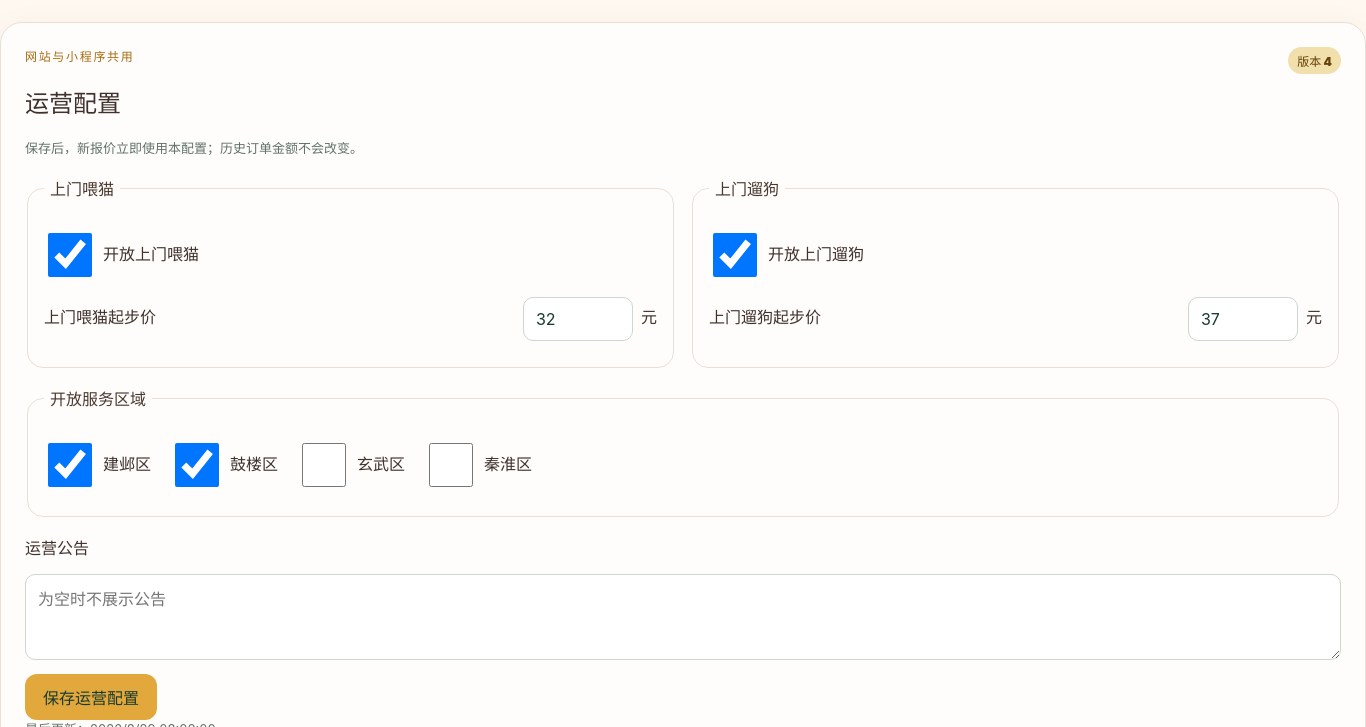
Test case: OperationsSettingsPanel › keeps at least one district and valid prices before saving
expect the heading "运营配置" is shown: met, box [25,84,134,119]
Click the checkbox labelled "建邺区".
click(70, 465)  # box [48,443,92,487]
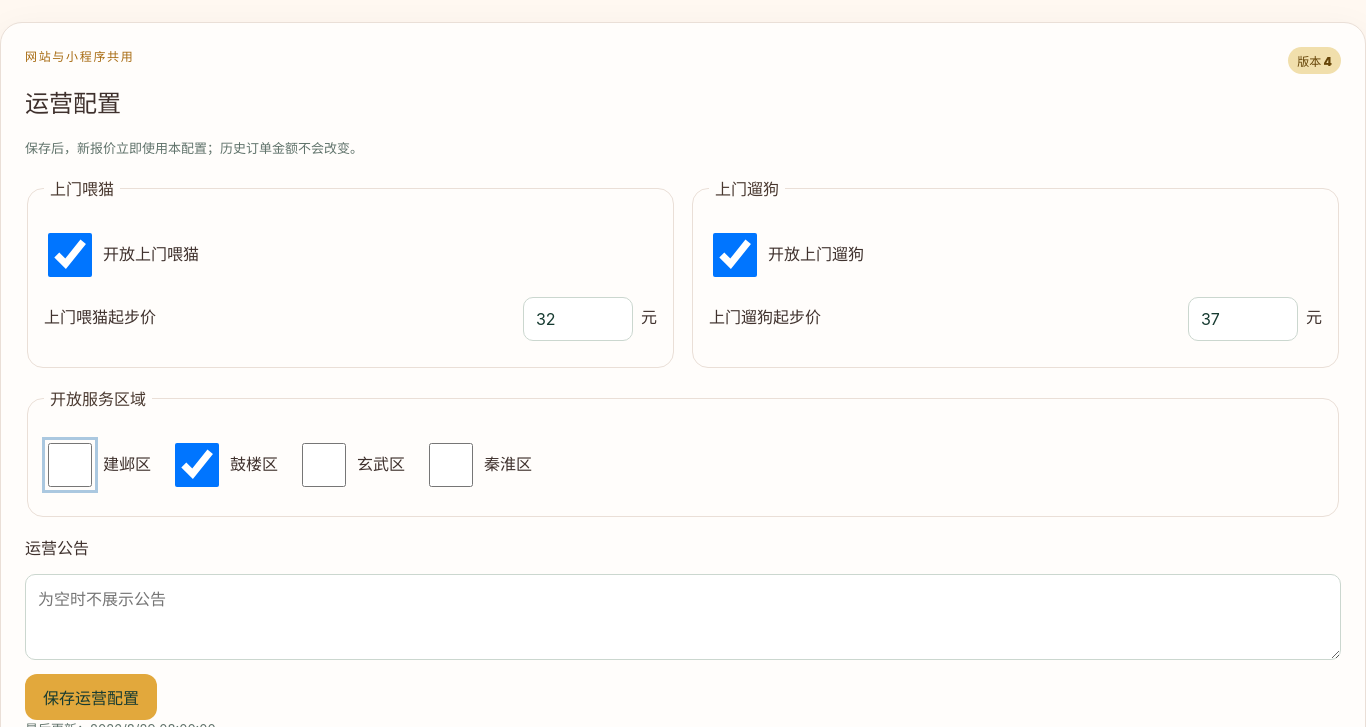
Click the checkbox labelled "鼓楼区".
click(197, 465)  # box [175,443,219,487]
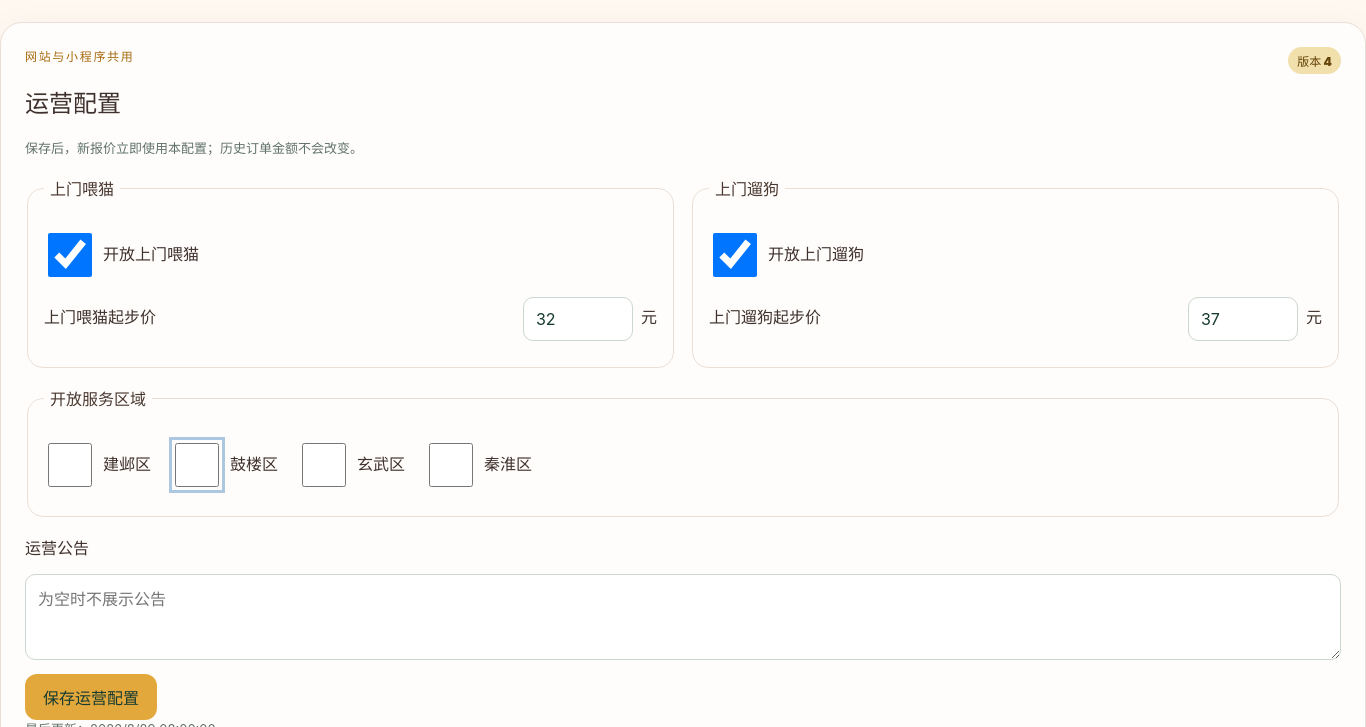
Click the button "保存运营配置".
click(91, 697)  # box [25,674,157,720]
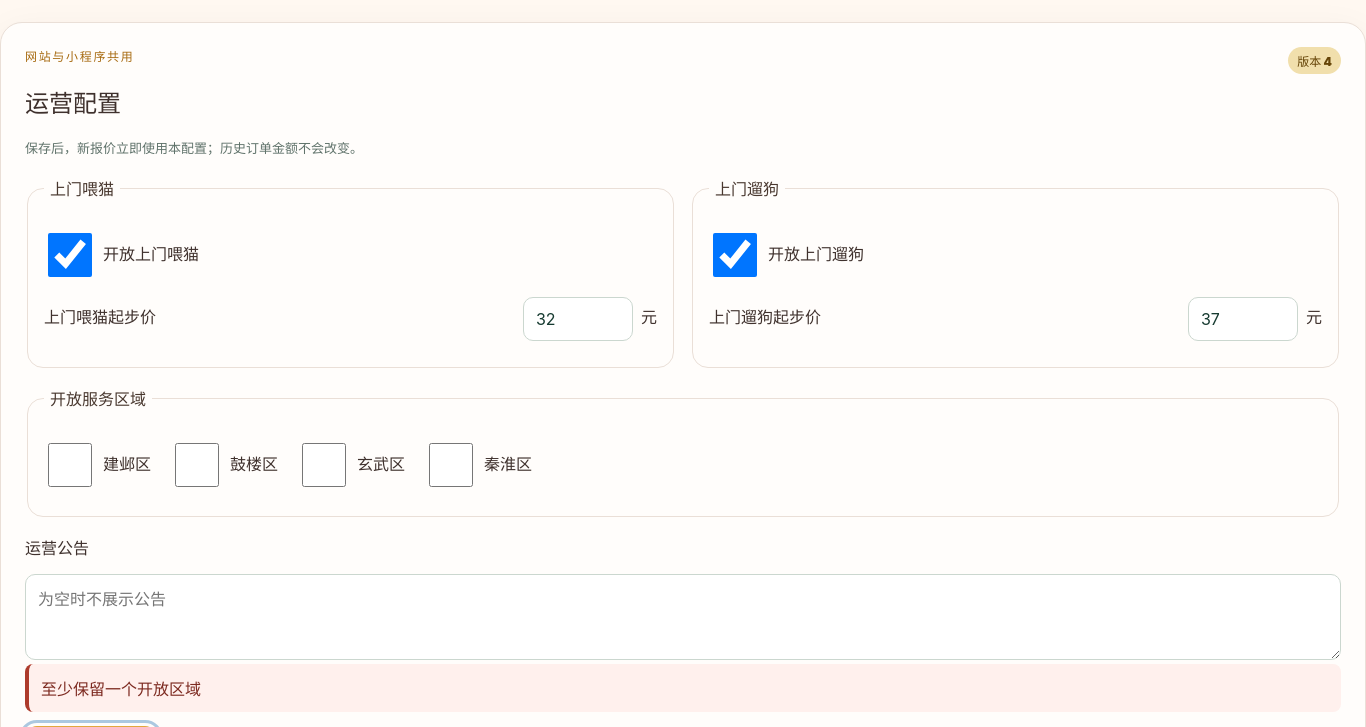
expect the message reads "至少保留一个开放区域": met, box [41,679,201,699]
